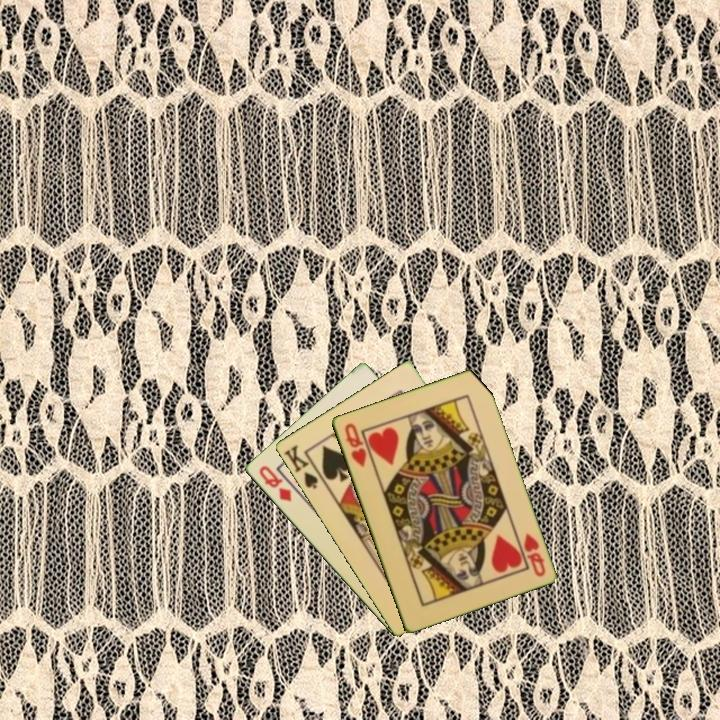Ks: (280, 441, 321, 492)
Qd: (255, 462, 294, 505)
Qh: (341, 419, 369, 470), (520, 530, 548, 579)
